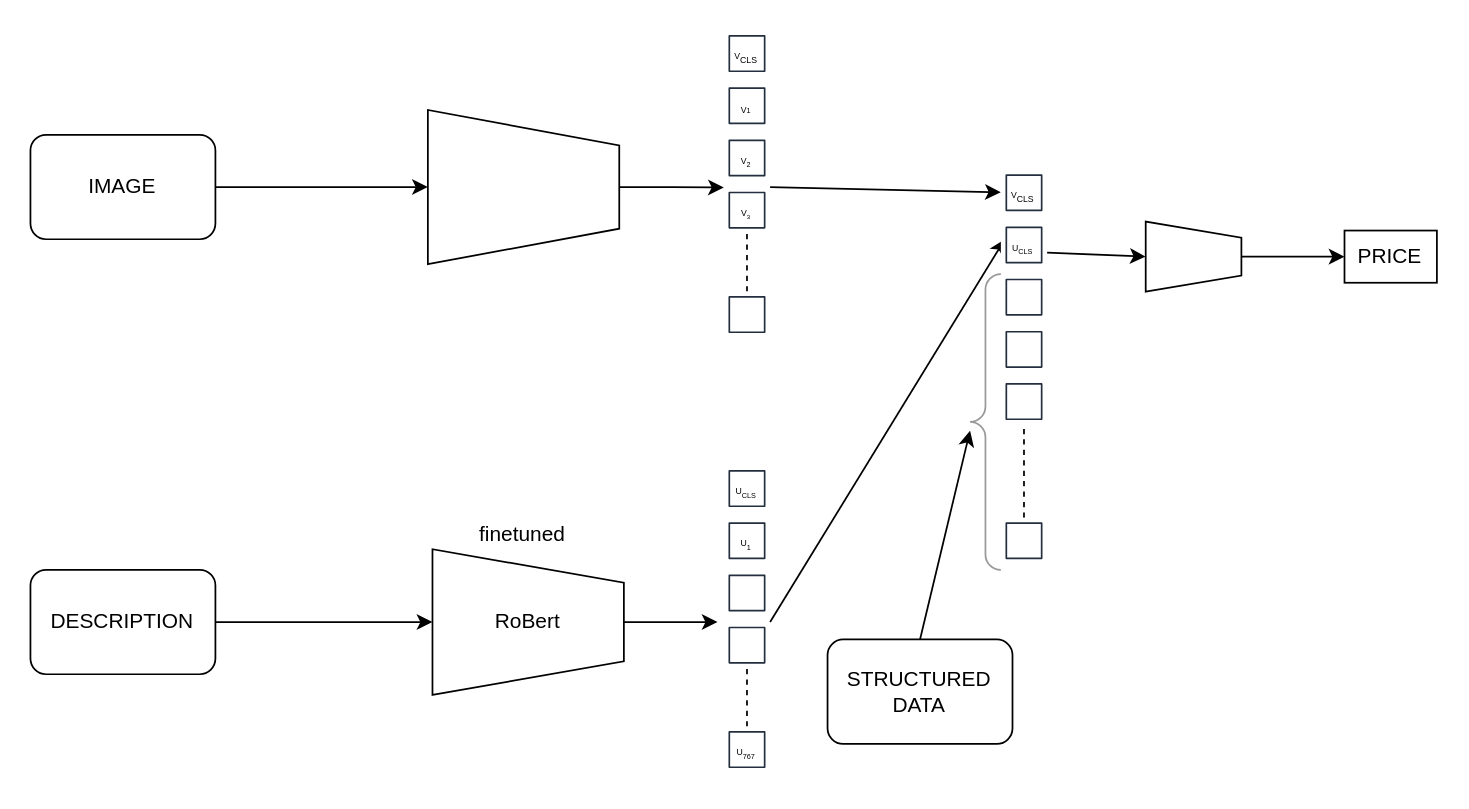
Image size: 1469x809. Some labels were removed from this diagram. The centre of each missing label's shape, as x and y in pixels:
FastVit: (x=522, y=186)
MLP: (x=1192, y=256)
U 2: (x=746, y=592)
U 3: (x=746, y=644)
V 767: (x=746, y=314)
